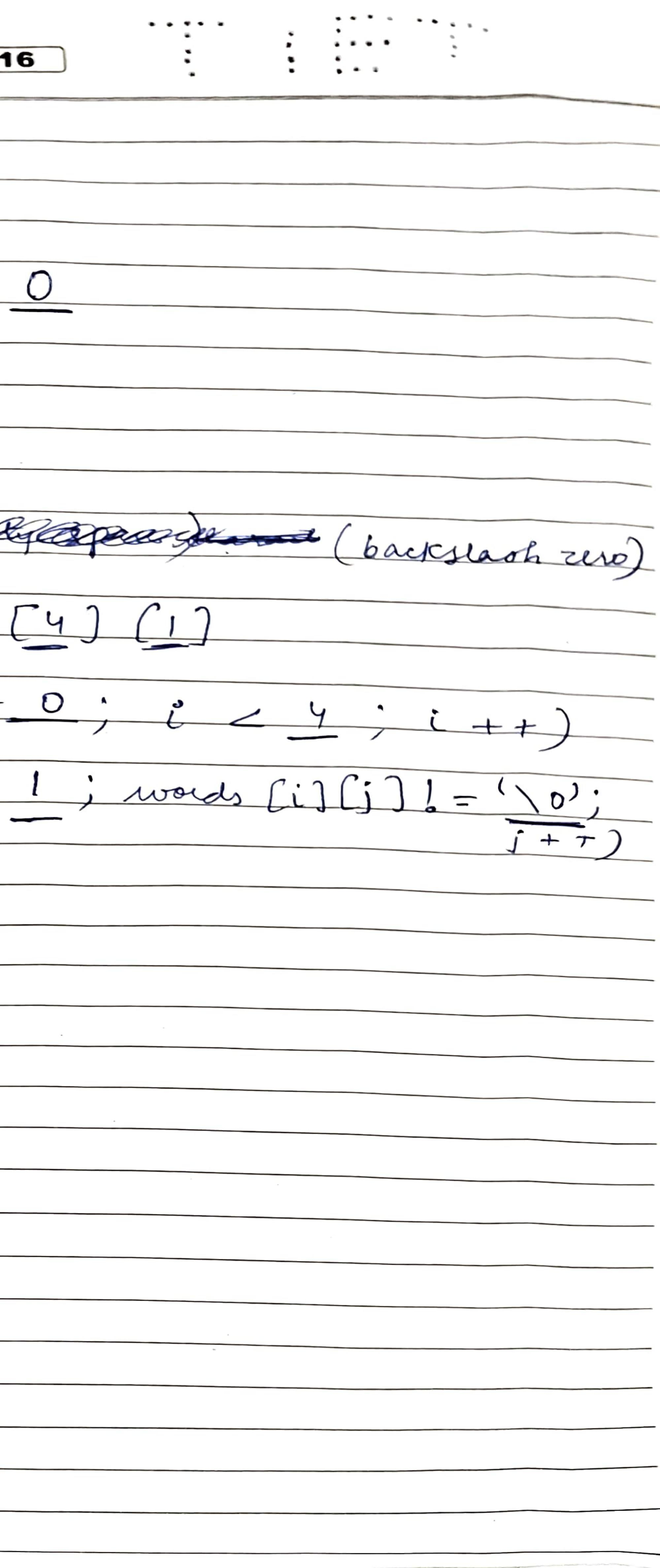cuttings: (0, 510, 323, 565)
